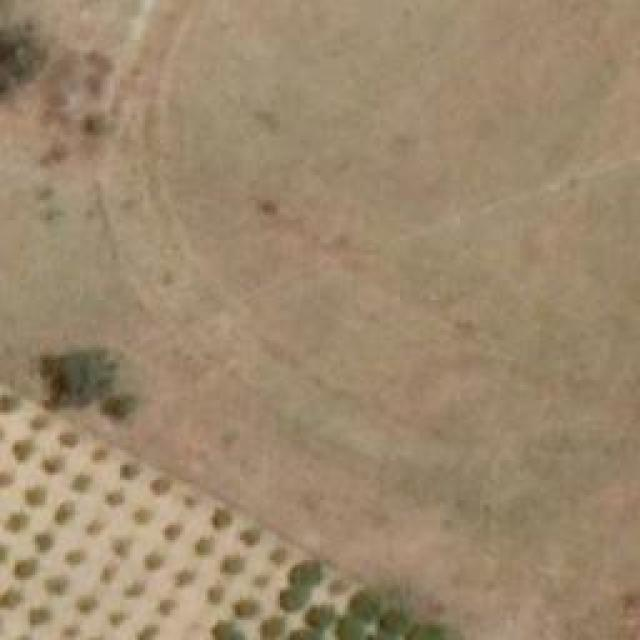Tree: (38, 353, 108, 406), (0, 27, 50, 95), (102, 394, 136, 424), (352, 595, 380, 618), (380, 613, 410, 633), (293, 563, 323, 583), (55, 428, 81, 451), (337, 617, 362, 640), (13, 558, 38, 581), (0, 585, 22, 610), (0, 392, 22, 416), (215, 622, 243, 640), (120, 578, 145, 598), (65, 548, 87, 570), (103, 487, 125, 508), (283, 590, 308, 608), (27, 414, 49, 434), (5, 515, 30, 530), (308, 608, 333, 623), (235, 600, 260, 615), (15, 440, 33, 460), (25, 487, 45, 505), (145, 550, 163, 570), (45, 577, 65, 595), (28, 607, 48, 625), (212, 508, 230, 528), (120, 460, 138, 480), (35, 530, 53, 550), (113, 540, 133, 558), (220, 558, 243, 573), (85, 520, 105, 537), (72, 472, 90, 490), (262, 620, 280, 638), (175, 567, 193, 585), (78, 595, 98, 610), (240, 530, 260, 545), (195, 538, 215, 553), (55, 502, 70, 520), (208, 585, 223, 603), (62, 625, 80, 640), (162, 525, 180, 540), (90, 448, 108, 463), (43, 458, 58, 473), (330, 580, 345, 595), (153, 478, 168, 493), (135, 508, 150, 523)
